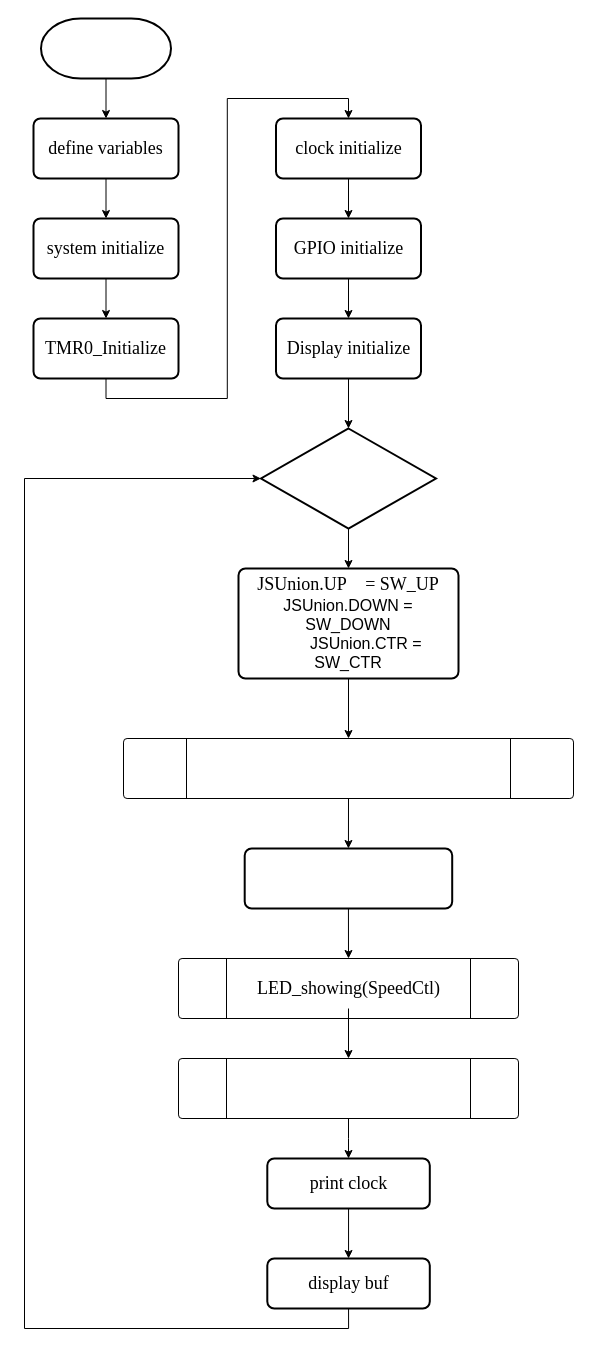
This 591x1354 diagram has some shape labels left out. Here are the shapes that lost their labels. From the top down, the box of each, then its label:
(40, 17, 172, 79): main程式開始
(260, 427, 436, 529): while(1)
(122, 738, 574, 798): SpeedCtl = JoyStick(JSUnion.JState)
(243, 847, 453, 909): speed = 51000 - SpeedCtl
(178, 1058, 518, 1118): clock_tick()
